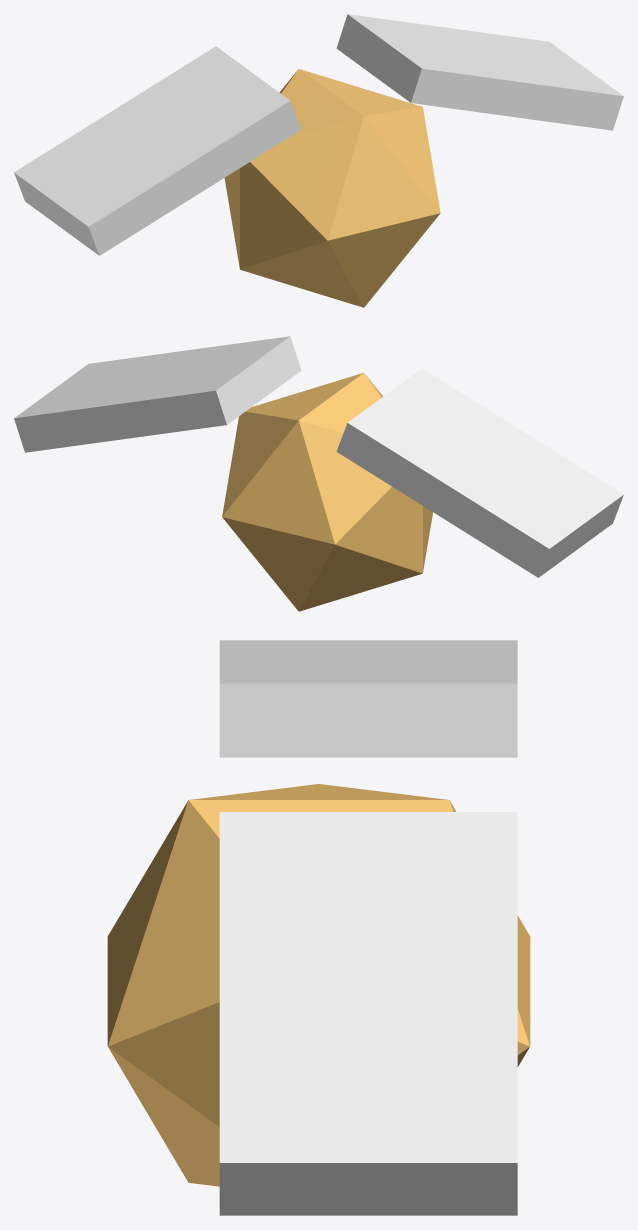
The model's file is fly.glb.
The picture shows the model from 3 angles, top to bottom: view 1: azimuth 30°, elevation 25°; view 2: azimuth 150°, elevation 25°; view 3: azimuth 270°, elevation 25°; orthographic projection. The views are drawn at different scales.
Parts seen in each view (by area): view 1: Body, WingL, WingR; view 2: Body, WingL, WingR; view 3: WingR, Body, WingL.
Boxes of the visible parts, box(x1,y1,x2,y2) form: Body: box(224, 69, 440, 307); WingL: box(14, 46, 301, 255); WingR: box(336, 14, 623, 130); Body: box(222, 372, 432, 611); WingL: box(336, 368, 623, 577); WingR: box(14, 336, 301, 452); WingR: box(219, 812, 517, 1215); Body: box(107, 784, 530, 1186); WingL: box(219, 640, 517, 757).
Size of the model in its own units: 0.4982 by 0.1934 by 0.1701.
